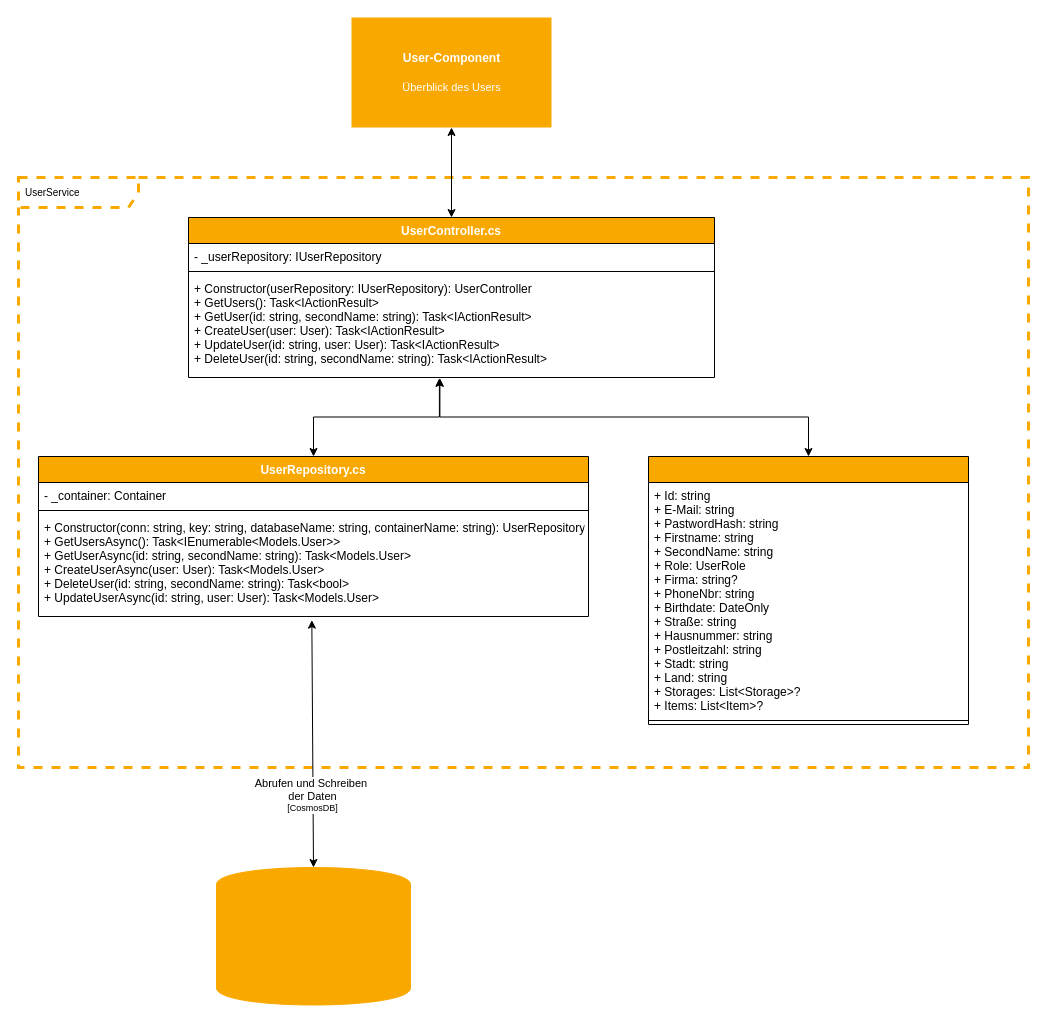
The diagram is 1047 pixels wide and 1022 high, and some of its shapes have lost their labels. Each missing label, with the box of its shape:
Database Speicherung der Registrierungs- und Logininformationen und User: (216, 866, 410, 1005)
User.cs: (648, 456, 968, 724)
